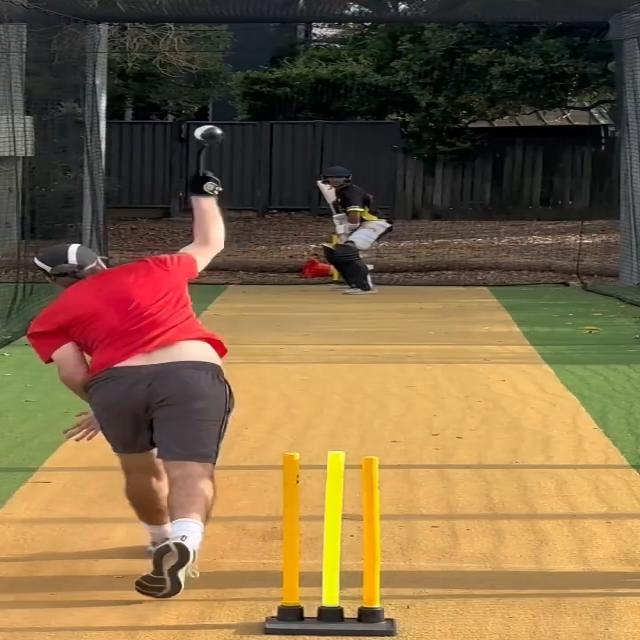stump: (263, 447, 397, 640)
